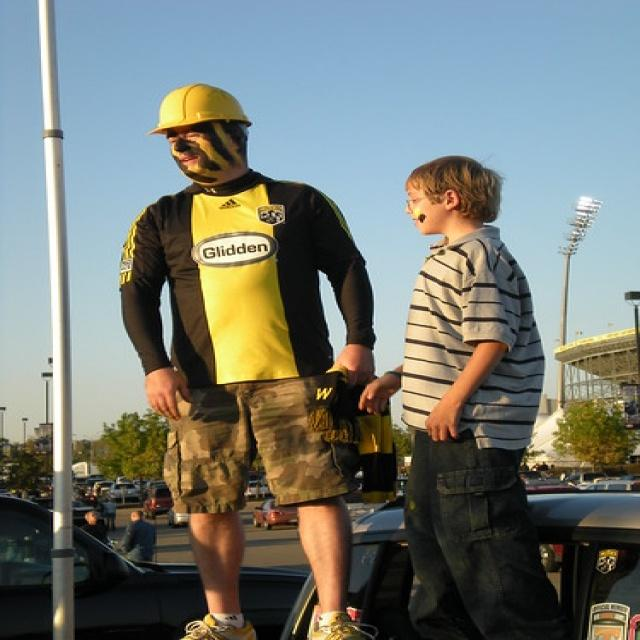helmet: (148, 103, 254, 172)
